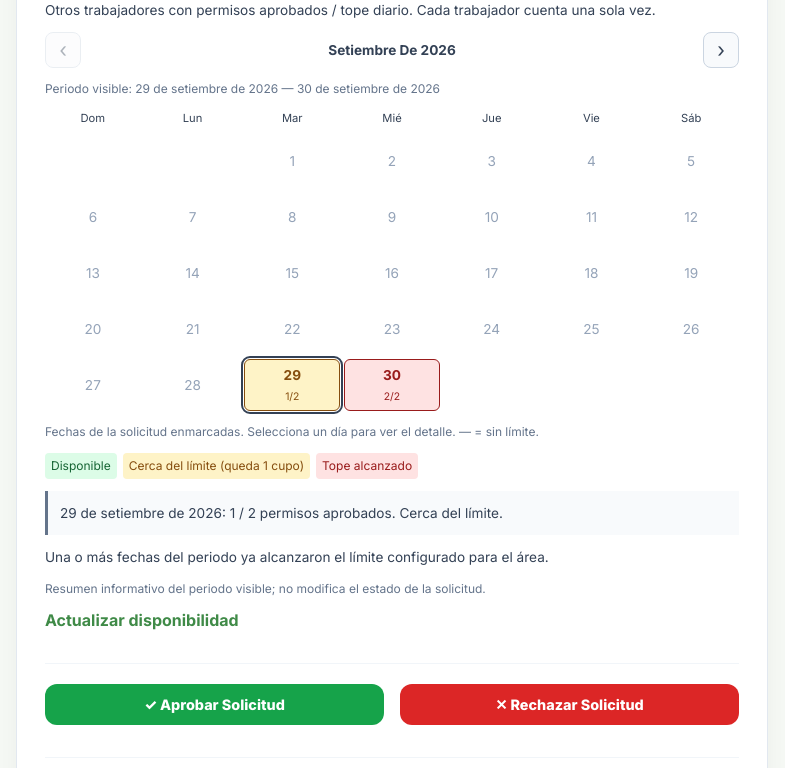
Test case: Detalle RRHH: disponibilidad informativa › carga al abrir, resalta fechas y no aprueba ni rechaza automáticamente
(page scrolled)
Click the button with class "full" showing "30 2/2": (392, 385) [344,359,440,411]
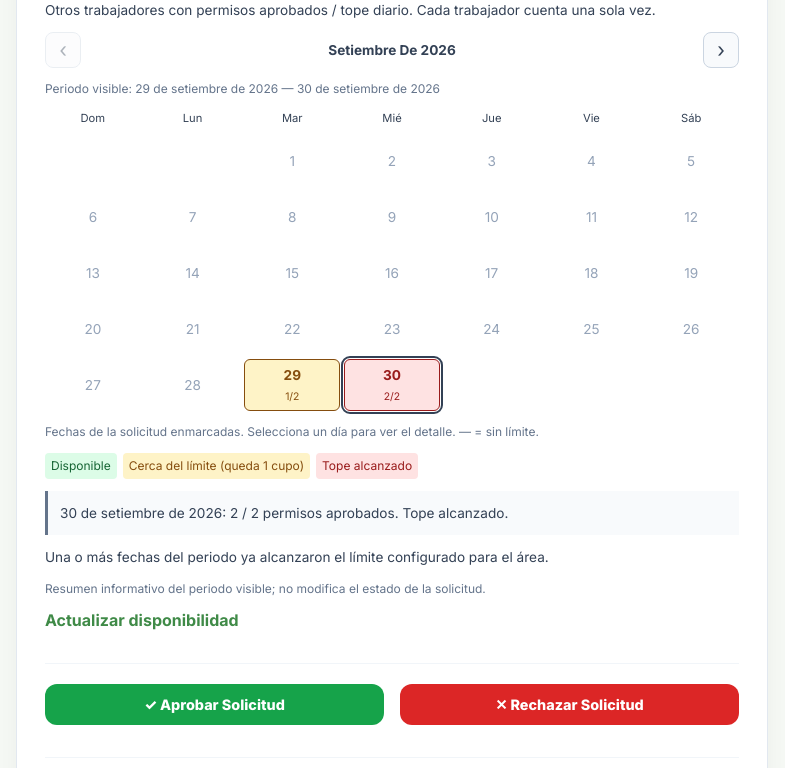
Now the text with class "availability-note" shows "2 / 2", box [60,505,508,521]
